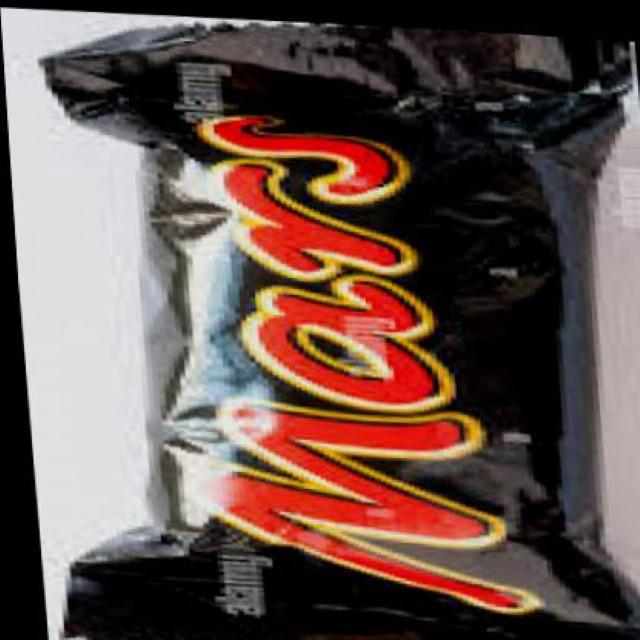mars_chocolate: (135, 52, 552, 605)
